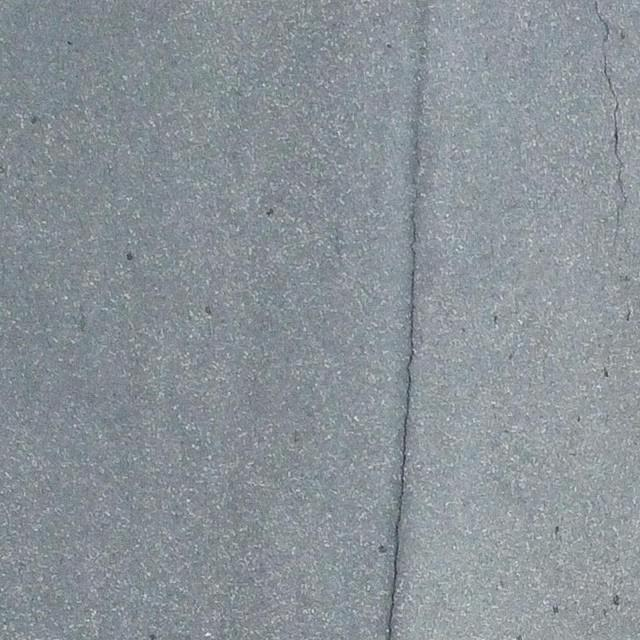LongitudinalCrack: (386, 1, 428, 639), (594, 2, 628, 245)
